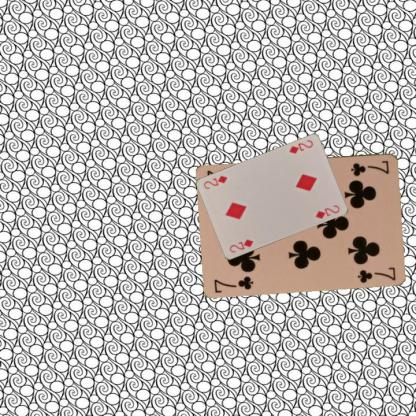2d: (287, 138, 314, 156), (227, 237, 255, 254)
7c: (212, 273, 255, 294), (348, 158, 390, 177)
